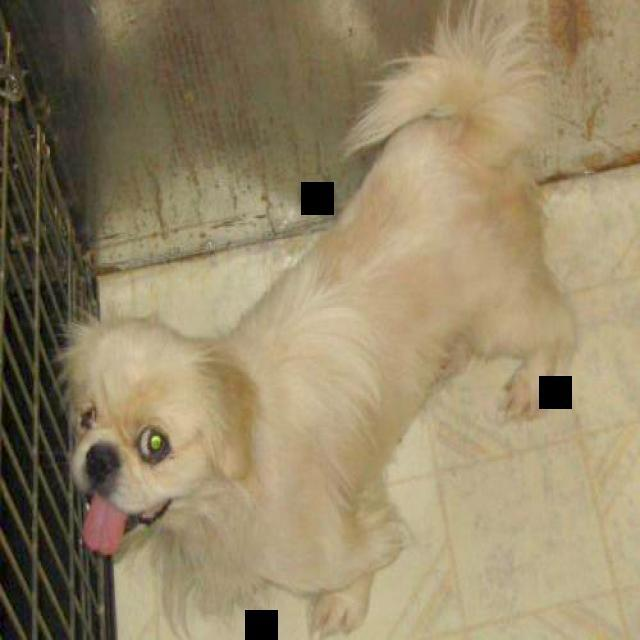adult_dog: (52, 6, 580, 634)
